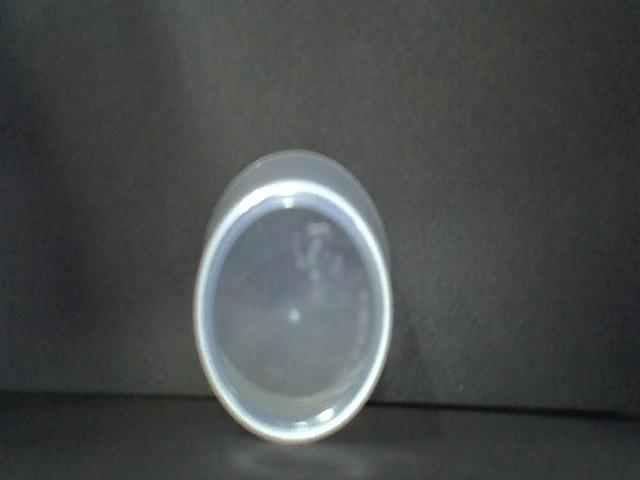cup: (191, 145, 401, 454)
